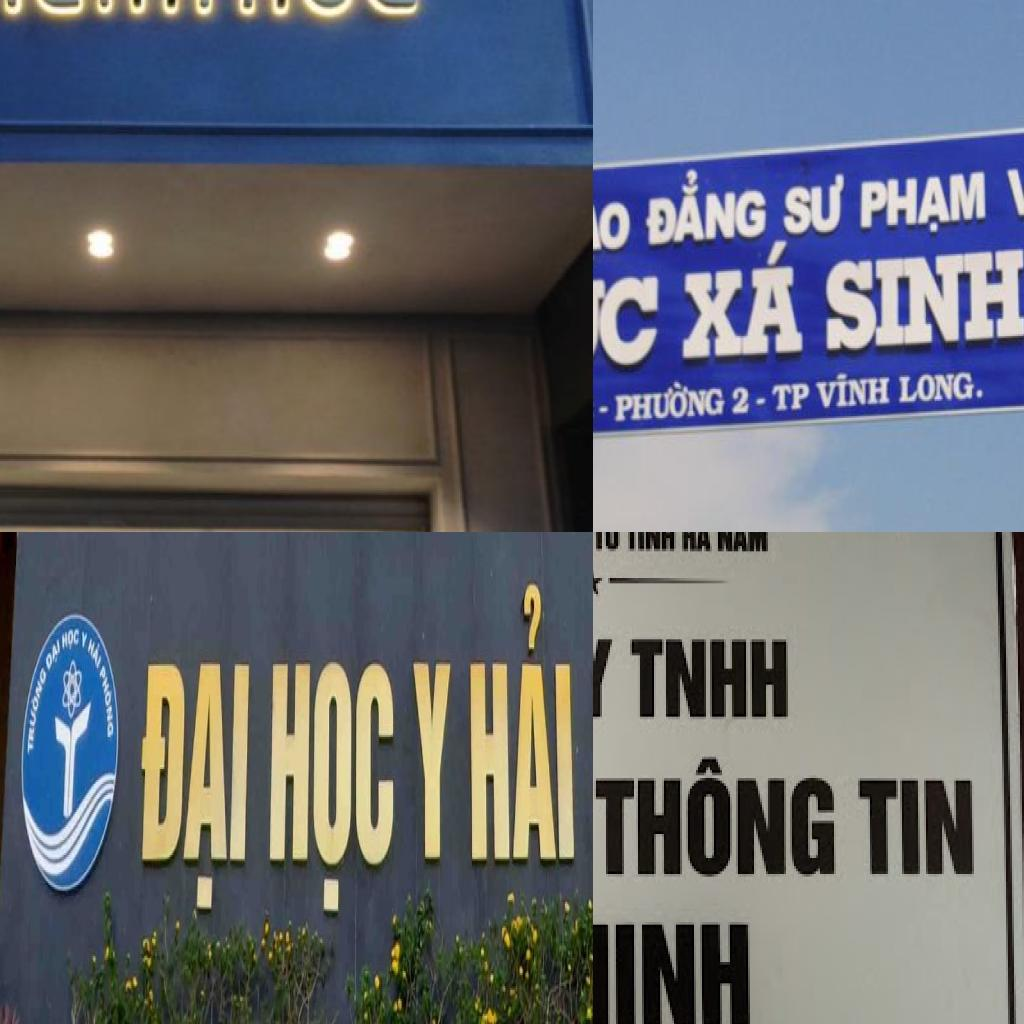text: (264, 653, 396, 920), (134, 653, 256, 917), (468, 576, 577, 870), (593, 753, 838, 879), (824, 243, 1024, 356), (593, 922, 752, 1024), (680, 239, 808, 363), (630, 637, 790, 722), (856, 778, 976, 879), (643, 164, 770, 252), (859, 167, 989, 242), (593, 244, 662, 377), (411, 655, 454, 866), (612, 378, 728, 424), (782, 170, 848, 240), (898, 366, 985, 408), (812, 370, 893, 413), (21, 647, 48, 758), (593, 197, 634, 259), (593, 636, 616, 722), (1000, 146, 1024, 219), (771, 380, 812, 414), (716, 532, 772, 556), (624, 532, 678, 554), (44, 630, 63, 679), (86, 628, 106, 674), (680, 532, 716, 556), (730, 384, 752, 418), (593, 532, 624, 554), (61, 626, 80, 652), (80, 628, 90, 651)
